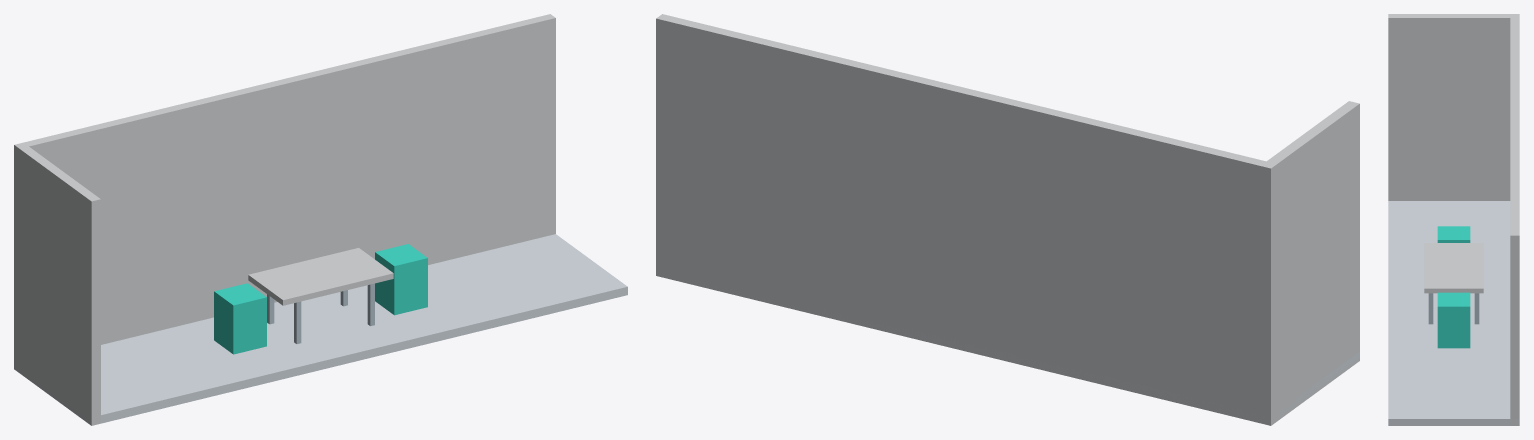
3 views of the same model, side by side, from view 1: azimuth 30°, elevation 25°; view 2: azimuth 150°, elevation 25°; view 3: azimuth 270°, elevation 25° (orthographic). The views are drawn at different scales.
Parts seen in each view (by area): view 1: Exhibition Booth Concept; view 2: Exhibition Booth Concept; view 3: Exhibition Booth Concept.
Part boxes in pixels (x1,y1,x2,y2): Exhibition Booth Concept: (14,14,627,425); Exhibition Booth Concept: (656,14,1359,425); Exhibition Booth Concept: (1388,14,1519,425).
Size of the model in its own units: 8 by 3.2 by 2.
